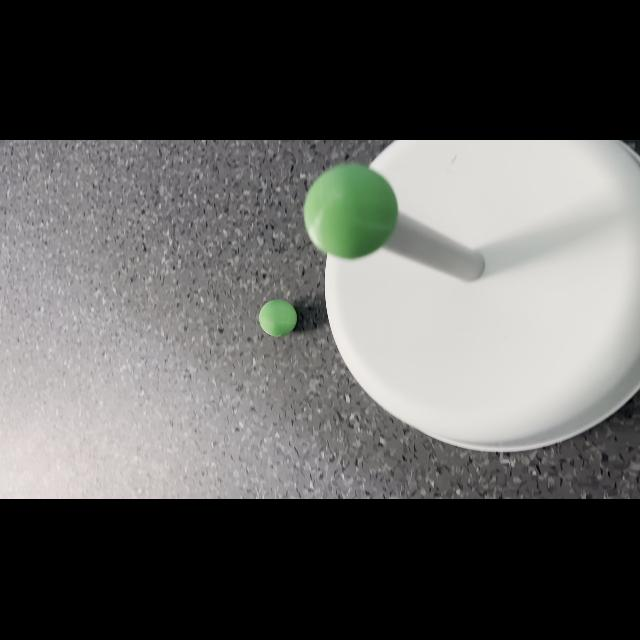objects: (300, 162, 400, 264), (255, 296, 301, 340)
